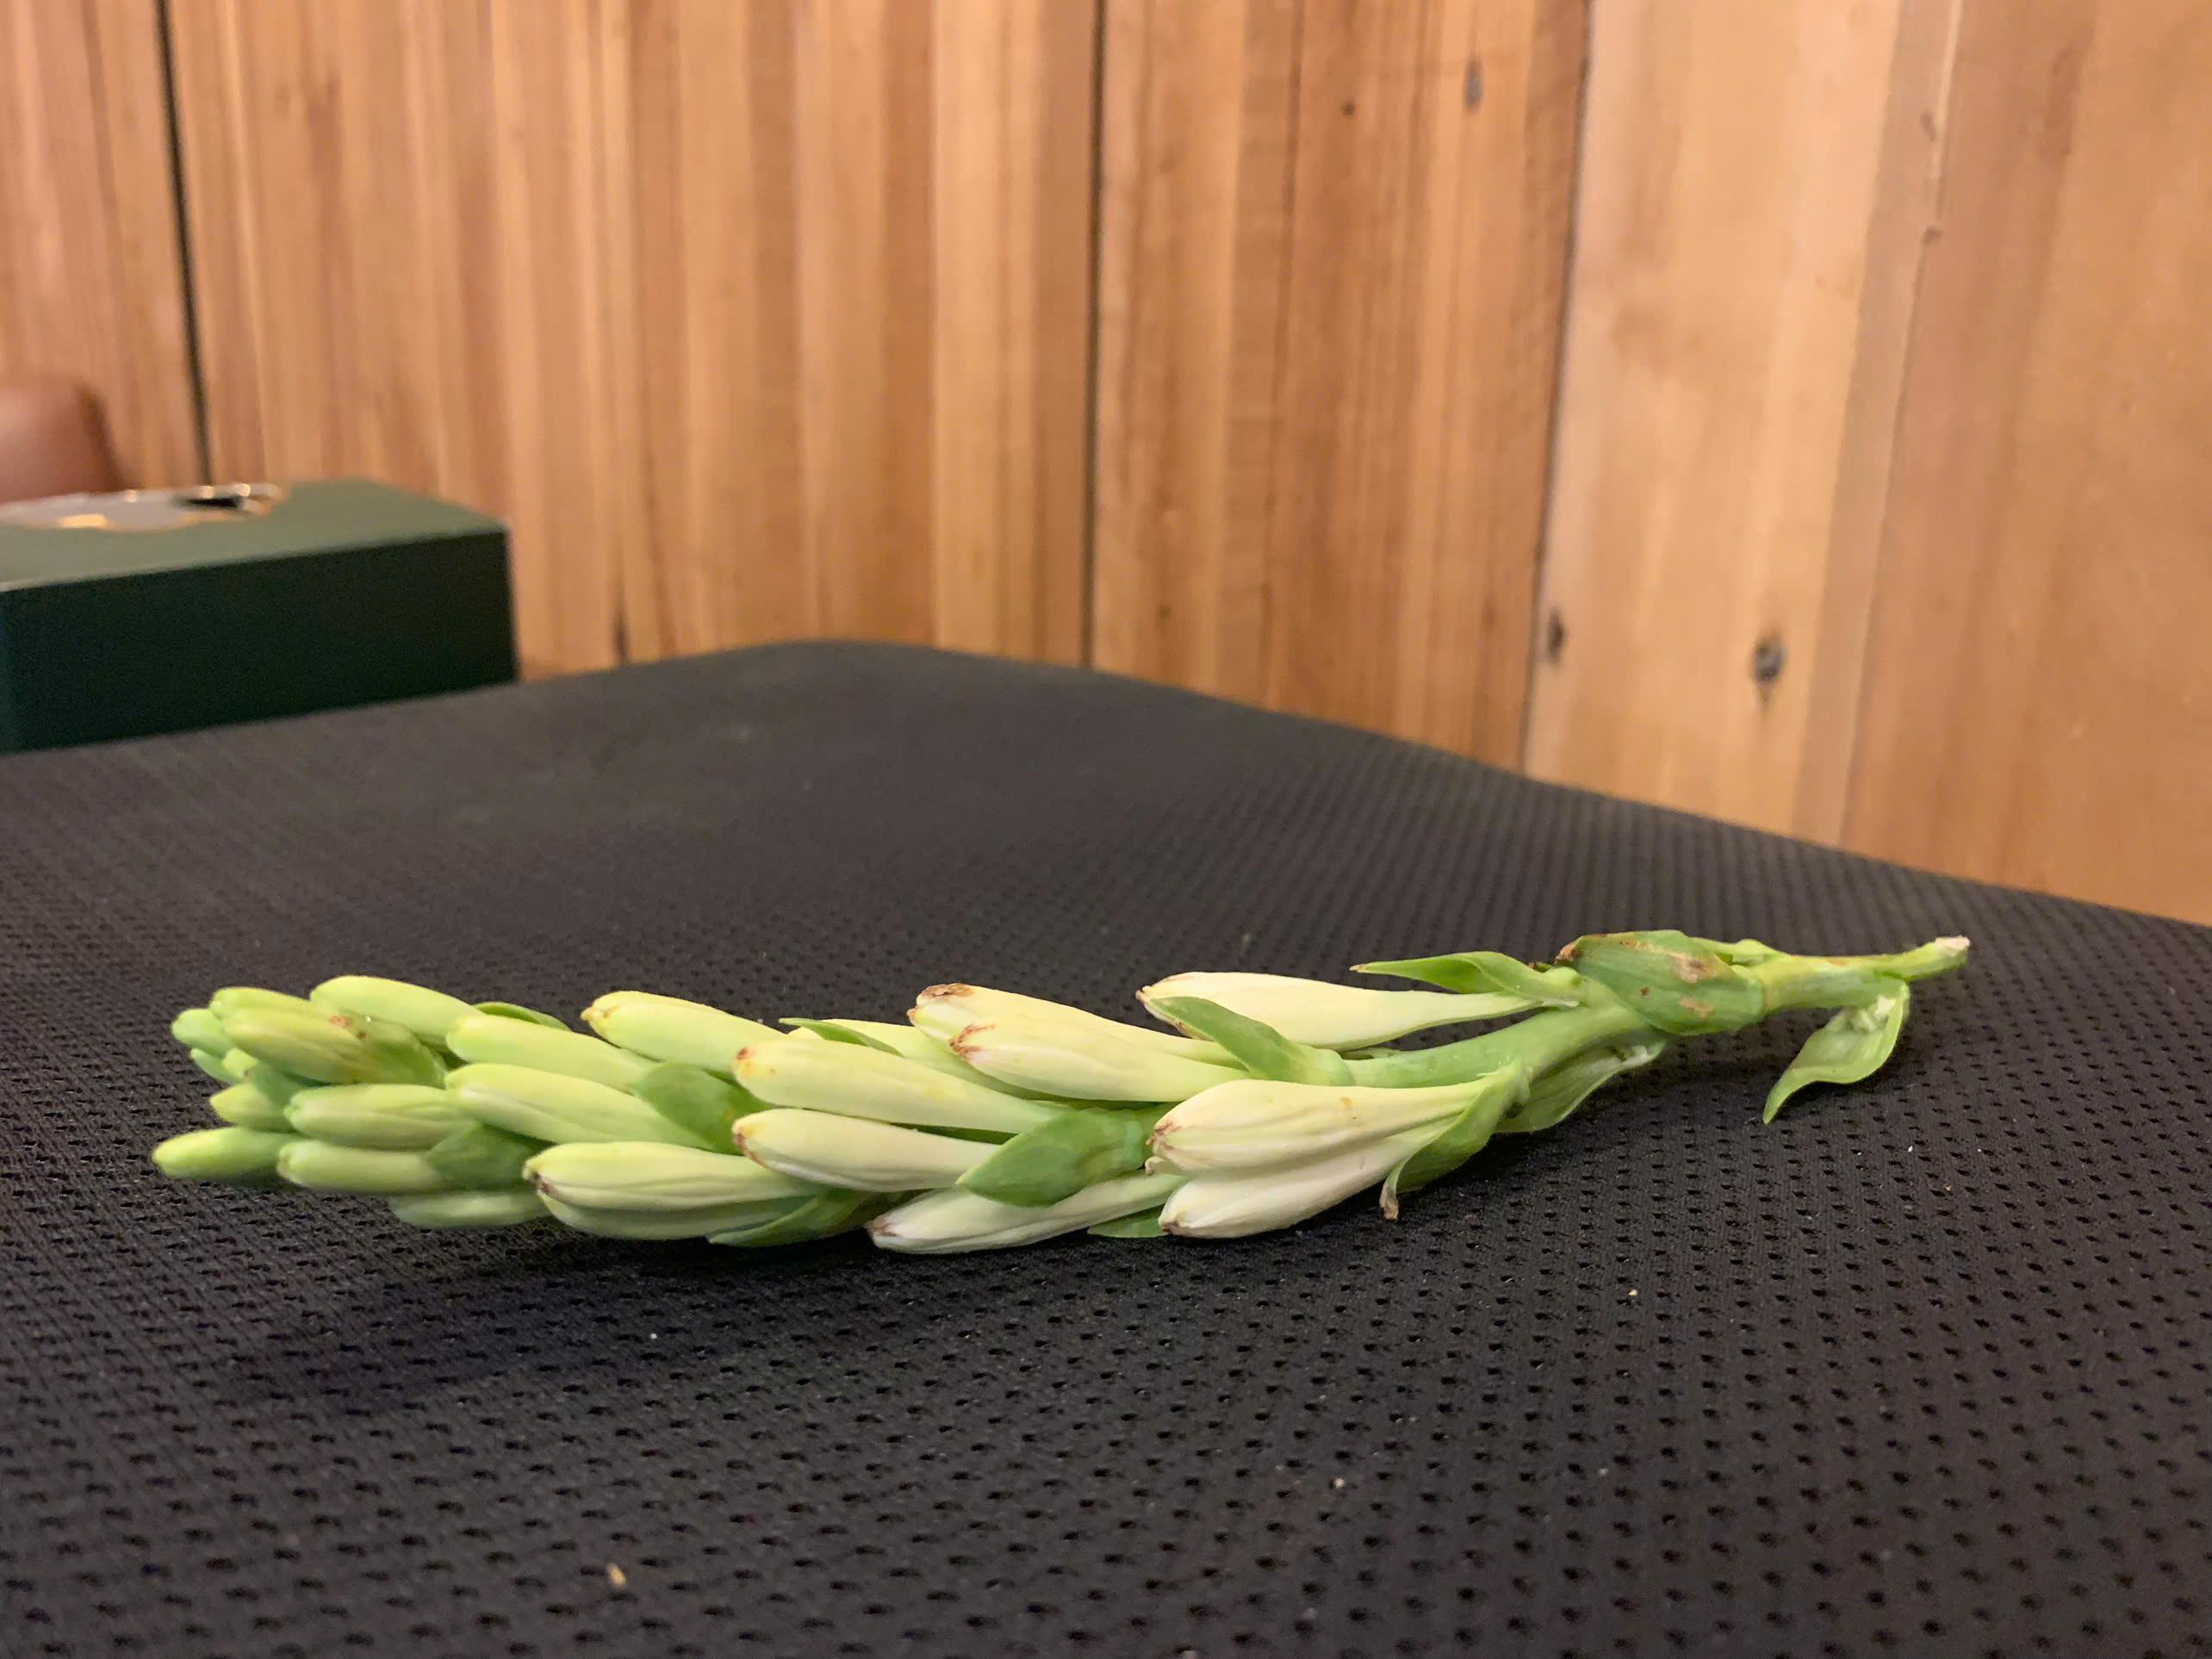Huu co: (158, 917, 1973, 1260)
